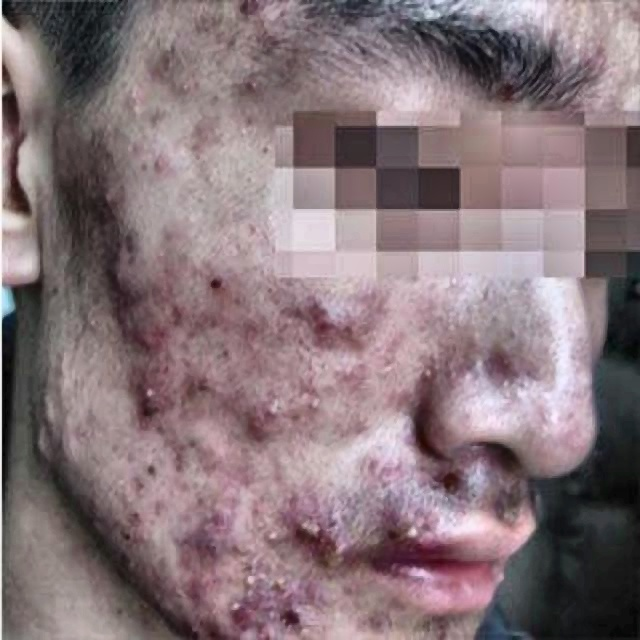nodule: (186, 508, 243, 574), (114, 66, 163, 135), (133, 147, 174, 201), (293, 367, 336, 418), (118, 488, 160, 538), (232, 75, 270, 130), (133, 373, 171, 427), (370, 450, 411, 499), (250, 388, 283, 446), (70, 298, 109, 346), (229, 2, 270, 47), (46, 356, 84, 399), (283, 495, 323, 535), (136, 318, 170, 365), (93, 186, 131, 226), (352, 606, 397, 638), (323, 533, 355, 576), (213, 587, 246, 625), (302, 303, 338, 337), (411, 358, 440, 397), (264, 514, 290, 557), (32, 422, 58, 465), (243, 544, 267, 587), (446, 358, 476, 392), (152, 262, 178, 301), (339, 316, 368, 350), (117, 224, 147, 256), (178, 576, 206, 610), (56, 435, 78, 476), (190, 367, 220, 397), (262, 566, 290, 598), (277, 602, 302, 636), (203, 427, 226, 463), (437, 463, 462, 495), (240, 309, 264, 342), (150, 574, 173, 608), (374, 344, 398, 376), (382, 324, 410, 350), (211, 337, 235, 367), (207, 303, 230, 333), (245, 495, 269, 523), (400, 523, 424, 550), (109, 437, 133, 463), (119, 552, 138, 584), (317, 582, 336, 614), (38, 393, 62, 418), (168, 299, 190, 326), (104, 263, 126, 290), (301, 578, 318, 612), (203, 269, 226, 294), (379, 516, 398, 546), (378, 379, 395, 412), (236, 460, 254, 490), (493, 344, 512, 371), (140, 452, 158, 480), (464, 324, 482, 352), (394, 384, 411, 410), (138, 561, 156, 585), (165, 454, 181, 480)
